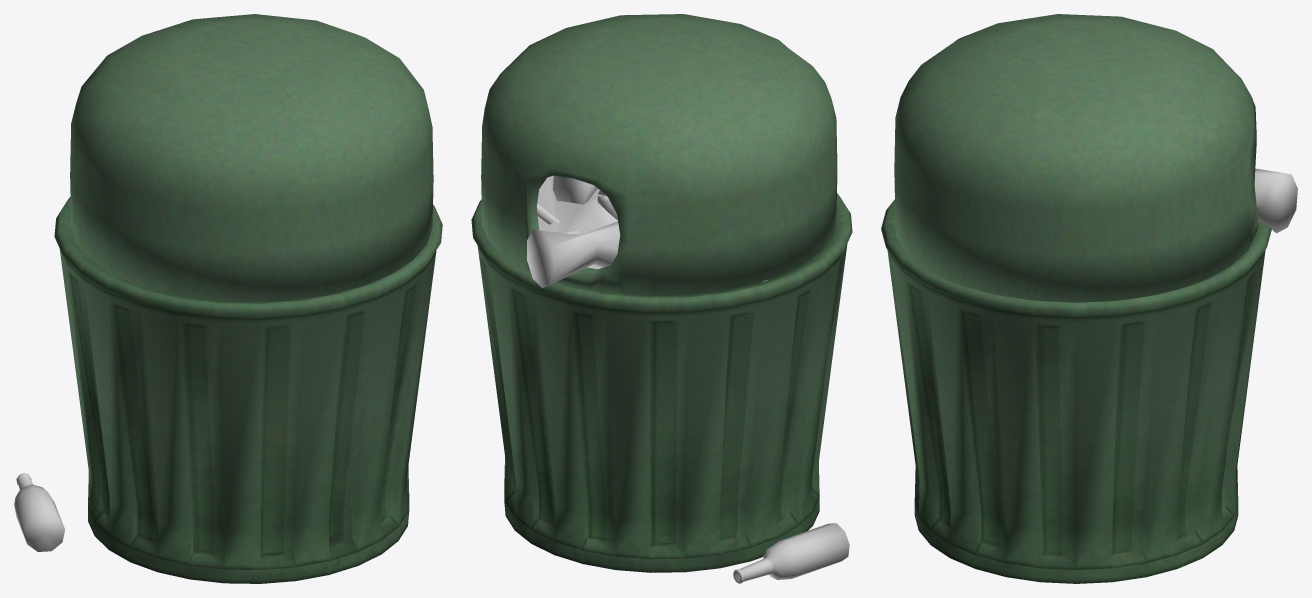
Rendered from TrashCanSimple01Trash.fbx.
3 views of the same model, side by side, from view 1: azimuth 30°, elevation 25°; view 2: azimuth 150°, elevation 25°; view 3: azimuth 270°, elevation 25° (orthographic). The views are drawn at different scales.
Parts seen in each view (by area): view 1: Cylinder, Trash; view 2: Cylinder, Trash; view 3: Cylinder, Trash.
Part boxes in pixels (bbox=[...]): Cylinder: bbox=[54, 14, 442, 583]; Trash: bbox=[14, 473, 64, 551]; Cylinder: bbox=[471, 14, 852, 572]; Trash: bbox=[527, 175, 849, 583]; Cylinder: bbox=[881, 14, 1271, 583]; Trash: bbox=[1254, 168, 1297, 233].
Size of the model in its own units: 85.77 by 100 by 82.02.
